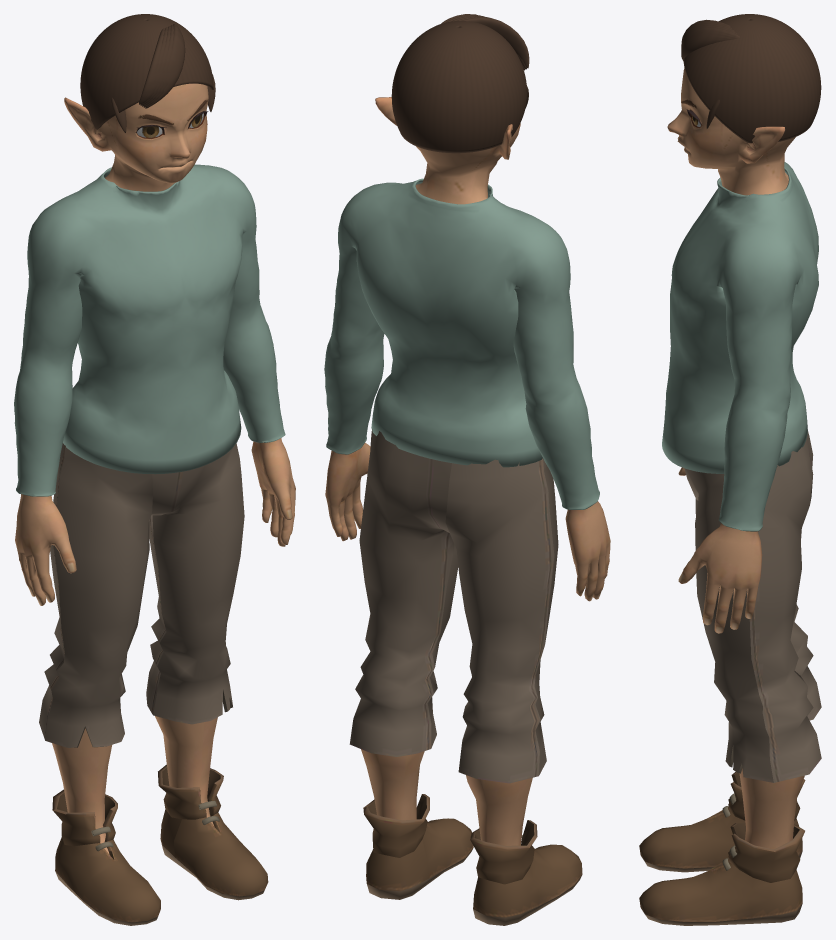
The model's file is boy-medium.glb.
3 renders of one model, left to right at view 1: azimuth 30°, elevation 25°; view 2: azimuth 150°, elevation 25°; view 3: azimuth 270°, elevation 25°, orthographic.
Parts seen in each view (by area): view 1: boy • Plain shirt • neutral sage, boy • Pant_043__Mt_Lower_043, boy • continuous skin, Hair • detailed boy; view 2: boy • Pant_043__Mt_Lower_043, boy • Plain shirt • neutral sage, boy • continuous skin, Hair • detailed boy; view 3: boy • Plain shirt • neutral sage, boy • Pant_043__Mt_Lower_043, boy • continuous skin, Hair • detailed boy.
Part boxes in pixels (bbox=[...]): boy • Plain shirt • neutral sage: bbox=[14, 164, 285, 496]; boy • Pant_043__Mt_Lower_043: bbox=[39, 443, 268, 925]; boy • continuous skin: bbox=[15, 83, 295, 854]; Hair • detailed boy: bbox=[80, 14, 215, 132]; boy • Pant_043__Mt_Lower_043: bbox=[349, 429, 582, 925]; boy • Plain shirt • neutral sage: bbox=[324, 178, 599, 509]; boy • continuous skin: bbox=[325, 97, 610, 845]; Hair • detailed boy: bbox=[391, 14, 529, 153]; boy • Plain shirt • neutral sage: bbox=[662, 162, 818, 531]; boy • Pant_043__Mt_Lower_043: bbox=[639, 431, 821, 925]; boy • continuous skin: bbox=[667, 68, 804, 849]; Hair • detailed boy: bbox=[681, 14, 821, 143].
Bounding box in the file's own units: 0.5778 × 1.76 × 0.3363.
Materials: 11 (10 with a texture image).
